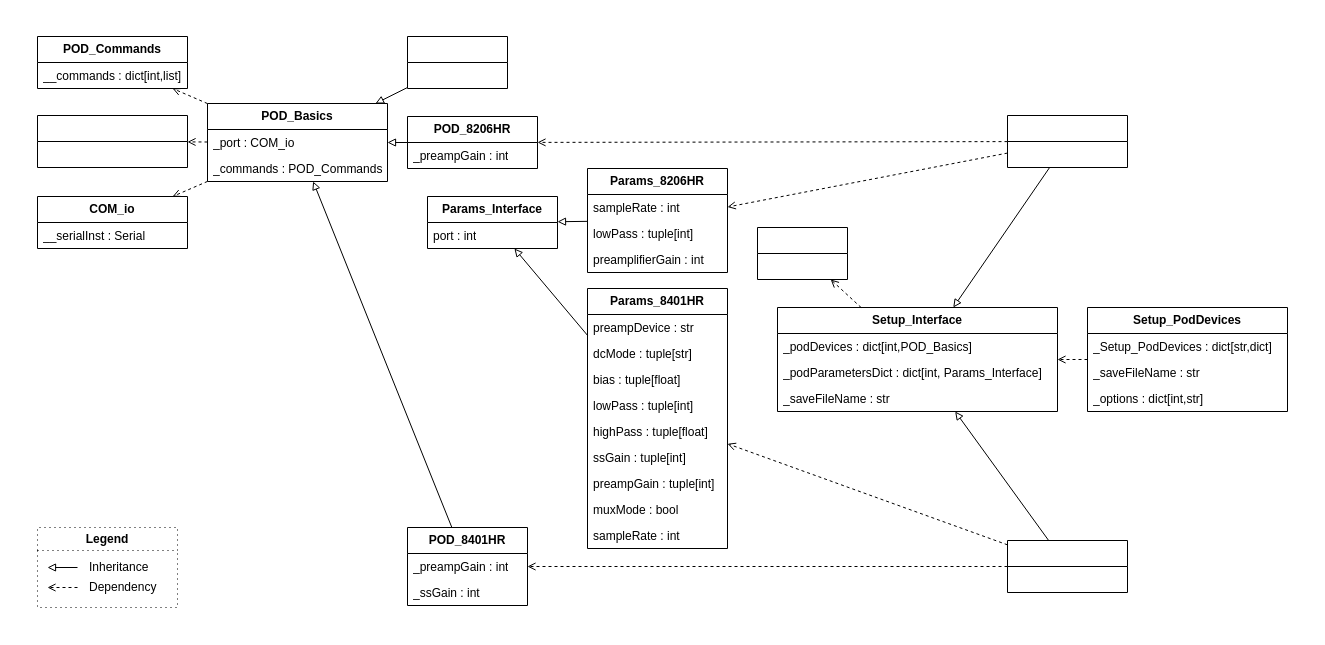
The diagram is 1325 pixels wide and 645 high, and some of its shapes have lost their labels. Here are the shapes that lost their labels. From the top down, the centre of each, then its label:
point 457,62: POD_8229
point 112,141: POD_Packets
point 1067,141: Setup_8206HR
point 802,253: UserInput
point 1067,566: Setup_8401HR
